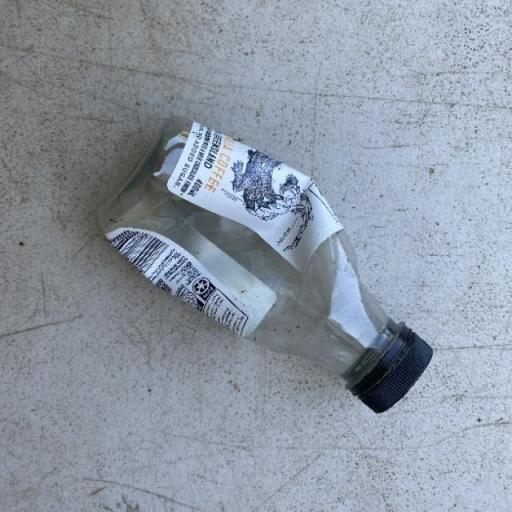plastic: (96, 113, 433, 413)
